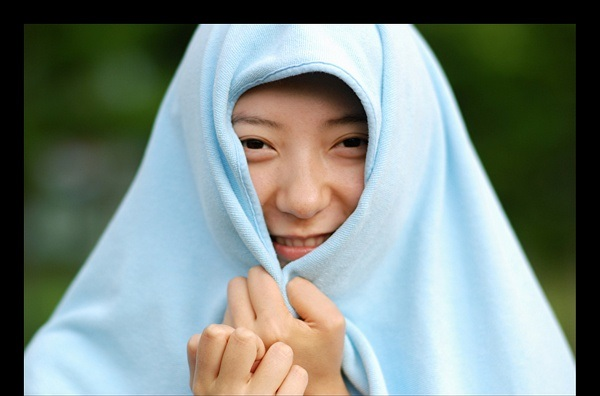face: (223, 52, 390, 292)
